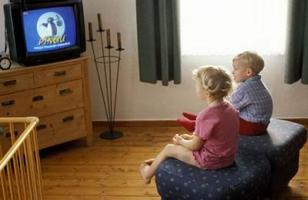person: (141, 65, 240, 185)
